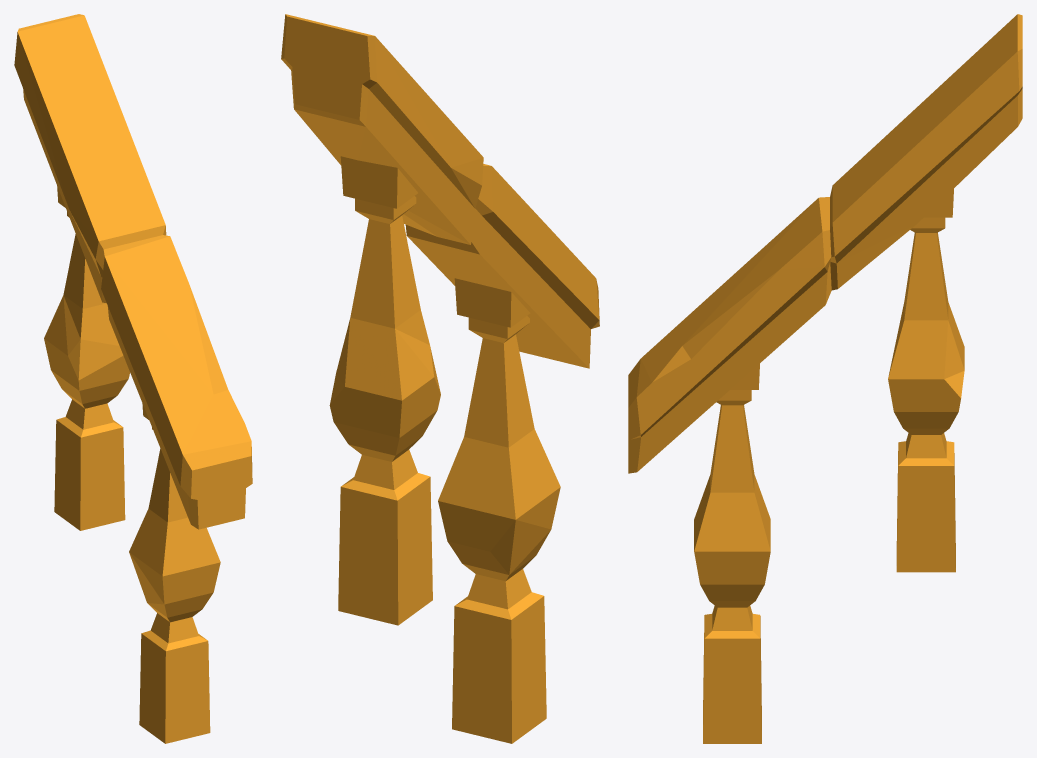
File: SM_Railing_Stone_Stairs_1m_A_Fantasy.fbx
3 views of the same model, side by side, from view 1: azimuth 30°, elevation 25°; view 2: azimuth 150°, elevation 25°; view 3: azimuth 270°, elevation 25° (orthographic). The views are drawn at different scales.
Visible parts, largest first — view 1: SM_Railing_Stone_Stairs_1m_A_Fantasy; view 2: SM_Railing_Stone_Stairs_1m_A_Fantasy; view 3: SM_Railing_Stone_Stairs_1m_A_Fantasy.
Part boxes in pixels (x1=…): SM_Railing_Stone_Stairs_1m_A_Fantasy: x1=14, y1=14, x2=252, y2=743; SM_Railing_Stone_Stairs_1m_A_Fantasy: x1=281, y1=14, x2=599, y2=743; SM_Railing_Stone_Stairs_1m_A_Fantasy: x1=628, y1=14, x2=1022, y2=743.
Bounding box in the file's own units: 0.24 × 1.96 × 1.
